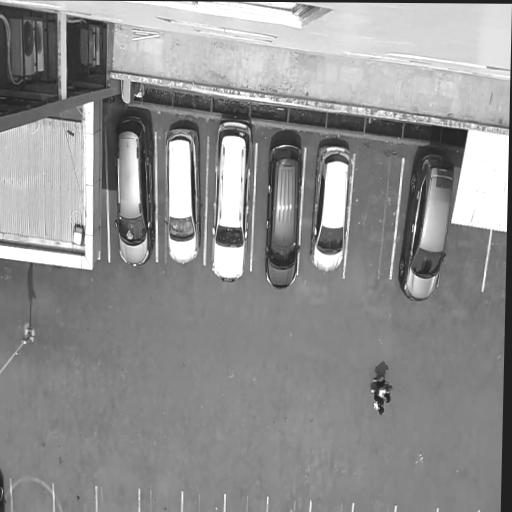Car: (397, 149, 457, 307), (210, 110, 255, 287), (261, 137, 305, 293), (113, 114, 155, 270), (309, 140, 354, 276), (164, 124, 203, 269), (0, 468, 5, 512)
Space Available: (345, 154, 404, 279), (439, 223, 491, 291), (483, 230, 507, 294), (11, 481, 54, 512), (54, 485, 96, 512), (140, 488, 181, 512), (97, 489, 139, 512), (182, 493, 225, 512), (224, 496, 267, 512), (267, 498, 312, 512), (353, 502, 395, 512), (311, 503, 353, 512)
